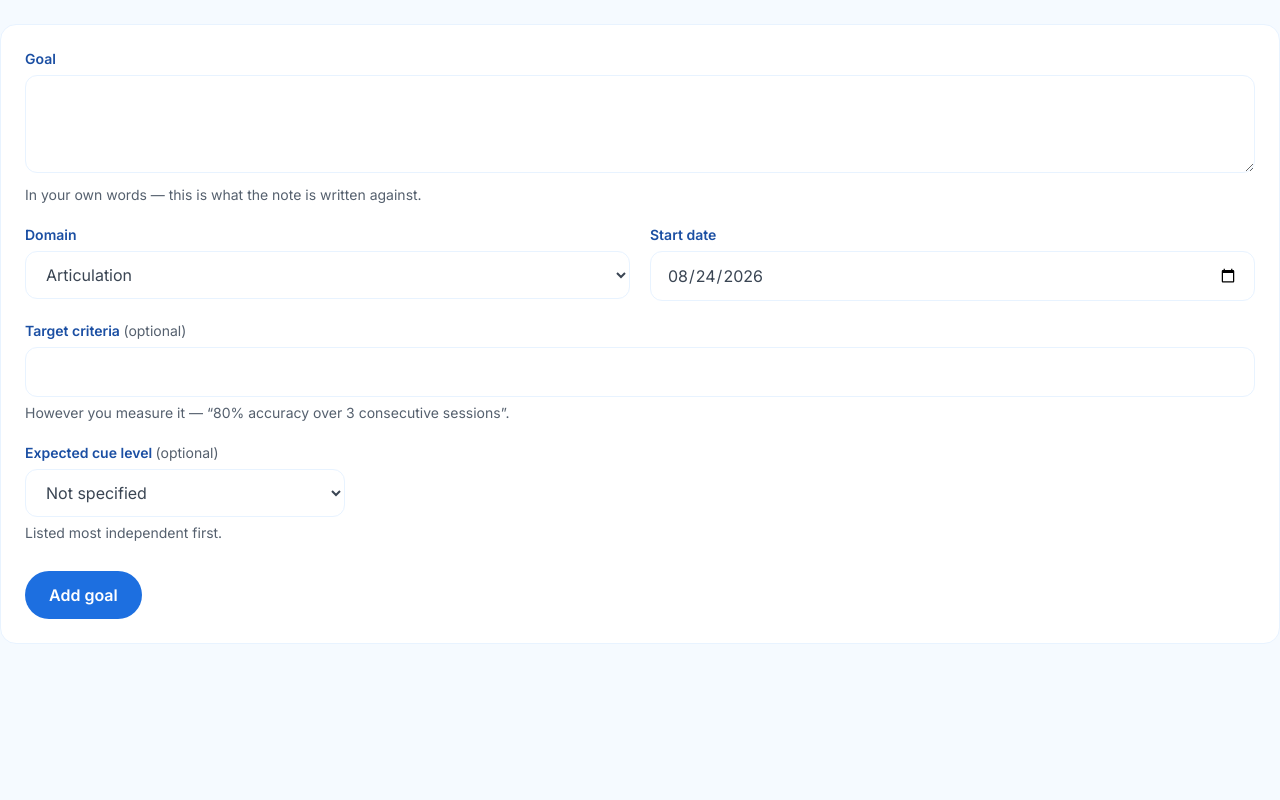
Scenario: AddGoalForm › reveals the AAC fields when the domain is AAC
Select "AAC" in the dropdown labelled "Domain" at coordinates (328, 275), box [25, 251, 630, 299]
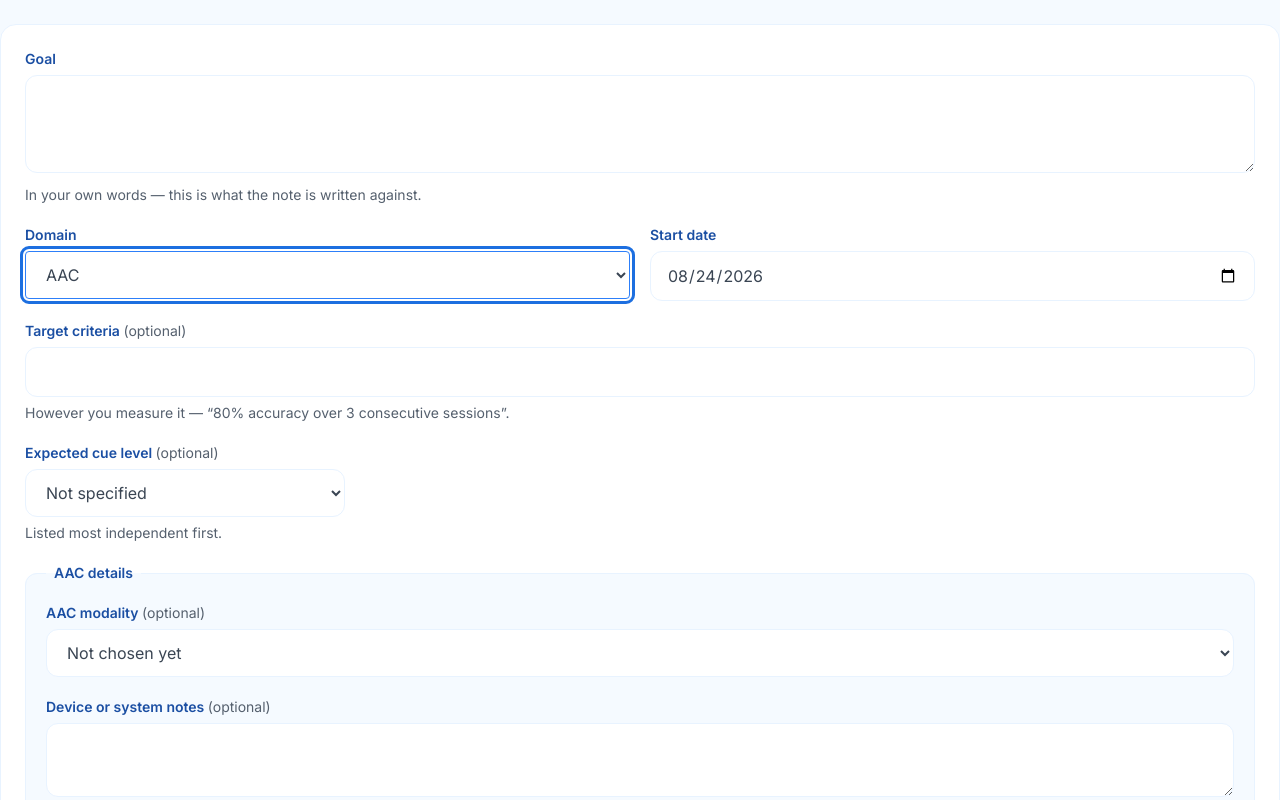
Expected: the dropdown labelled "AAC modality (optional)" is shown, [46, 629, 1234, 677]
